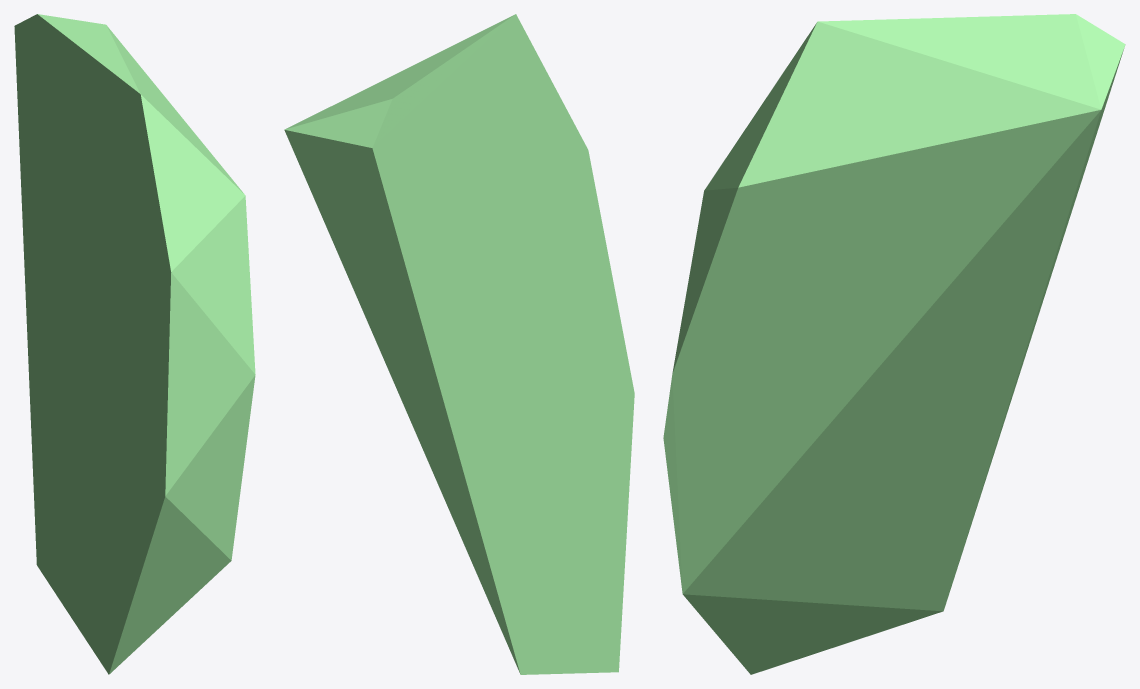
The model's file is UMIRobot_UMIRobot_link_5_convex_coll_39.dae.
3 views of the same model, side by side, from view 1: azimuth 30°, elevation 25°; view 2: azimuth 150°, elevation 25°; view 3: azimuth 270°, elevation 25° (orthographic). The views are drawn at different scales.
Visible parts, largest first — view 1: node; view 2: node; view 3: node.
Boxes of the visible parts, x1=… form: node: x1=14, y1=14, x2=255, y2=674; node: x1=284, y1=14, x2=634, y2=674; node: x1=663, y1=14, x2=1125, y2=674.
Size of the model in its own units: 0.00313 by 0.0121 by 0.00729.
